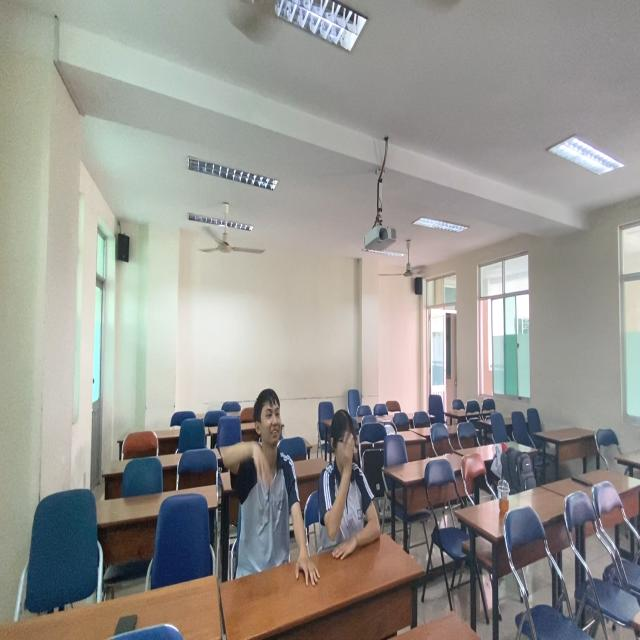raise_hand: (324, 404, 388, 564)
